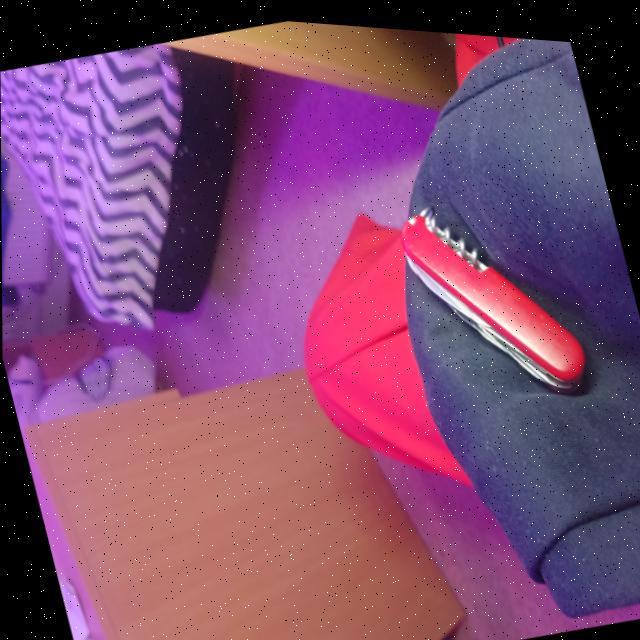knife victorinox: (402, 202, 583, 379)
